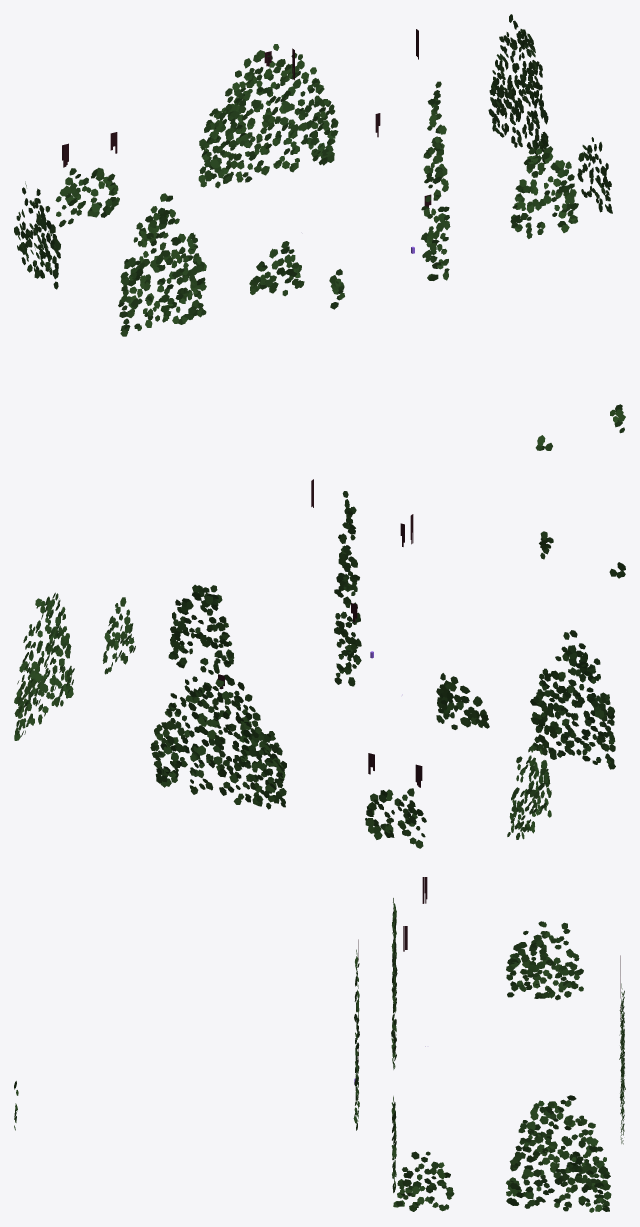
The model's file is SM_Abandoned_NoCol.fbx.
3 views of the same model, one above another, from view 1: azimuth 30°, elevation 25°; view 2: azimuth 150°, elevation 25°; view 3: azimuth 270°, elevation 25° (orthographic). The views are drawn at different scales.
Visible parts, largest first — view 1: SM_Abandoned_NoCol; view 2: SM_Abandoned_NoCol; view 3: SM_Abandoned_NoCol.
Boxes of the visible parts, x1,y1,x2,y2 form: SM_Abandoned_NoCol: [14, 14, 625, 450]; SM_Abandoned_NoCol: [14, 479, 625, 848]; SM_Abandoned_NoCol: [14, 877, 625, 1212].
Bounding box in the file's own units: 40.89 × 18.82 × 49.25.
